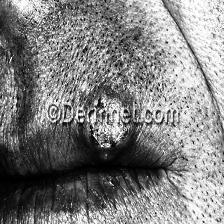Benign Marking or Mole: (85, 104, 131, 152)
